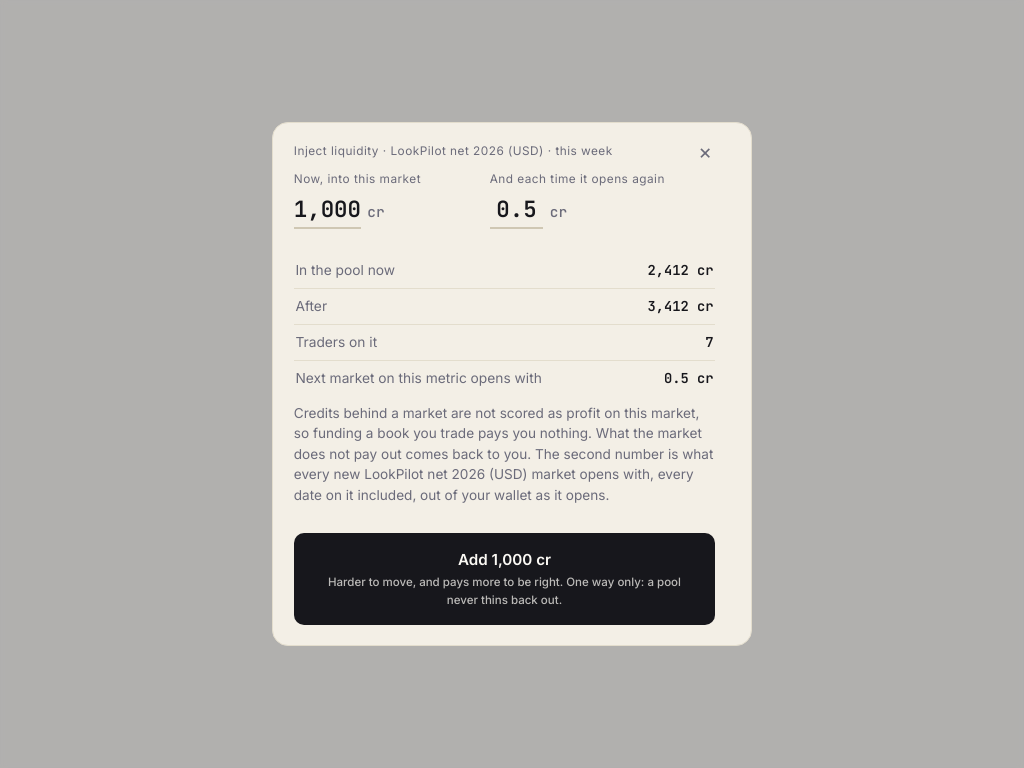
Scenario: dialog 3: a baseline market whose date has no row falls back to the metric-level number › the standing number is written before the credits move, so a refused write moves nothing
The width and height of the screenshot is (1024, 768).
Replace the text in the field named "Credits every new market on this metric opens with" with "500" at coordinates (516, 211), box top-left (490, 193), bottom-right (543, 229)
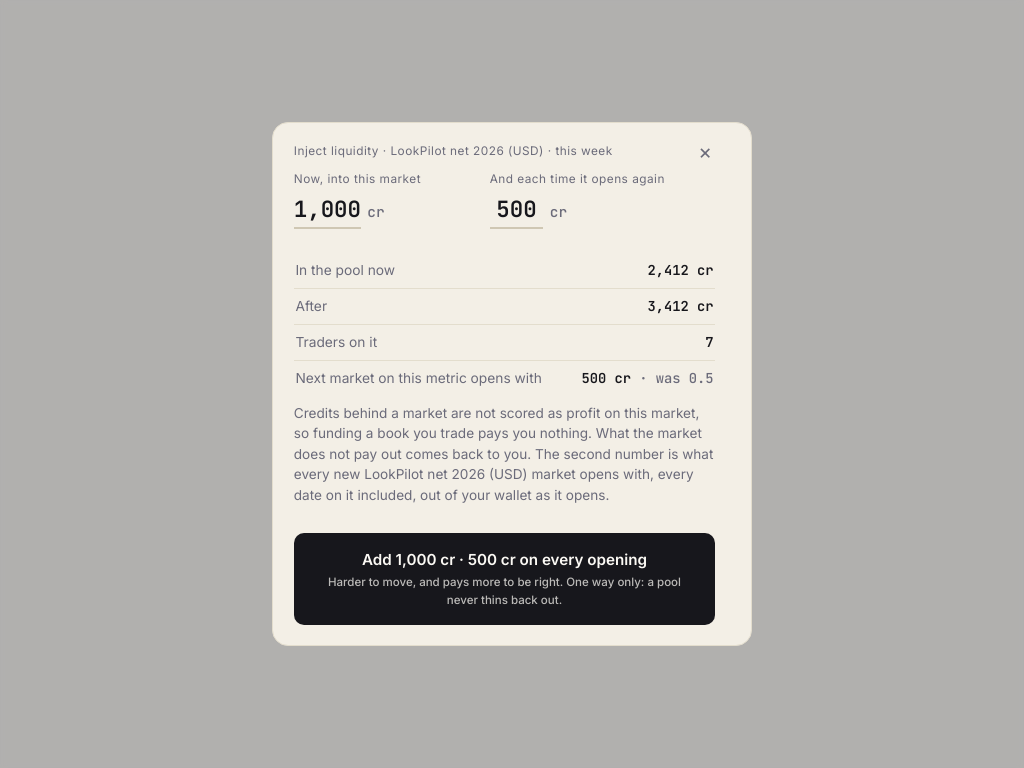
Click the button "Add 1,000 cr · 500 cr on every opening" at coordinates (504, 579), box top-left (294, 533), bottom-right (715, 624)
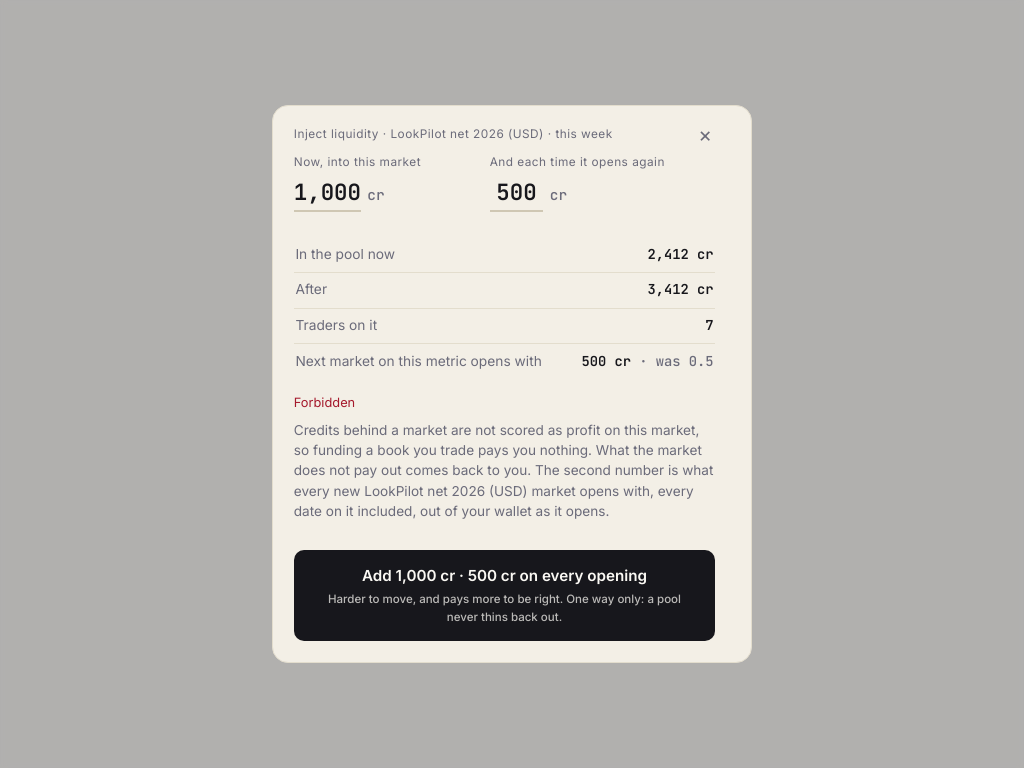
Check: the text "Forbidden" is shown, box top-left (294, 395), bottom-right (355, 410)
